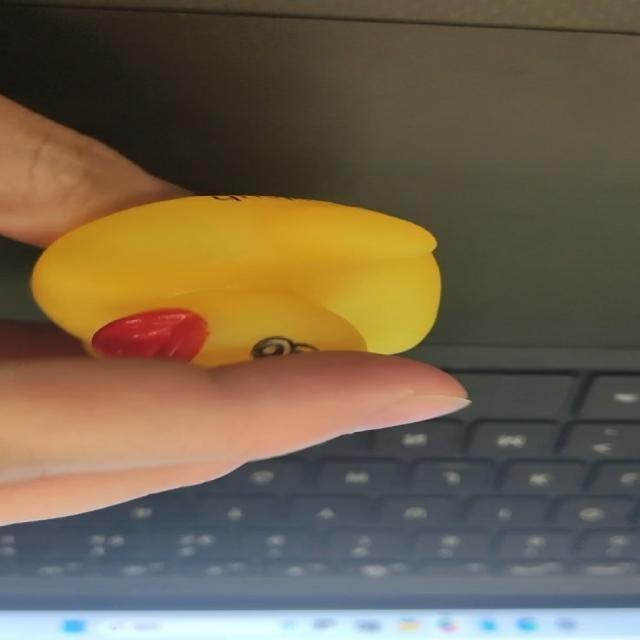rubber-duck: (31, 195, 439, 364)
